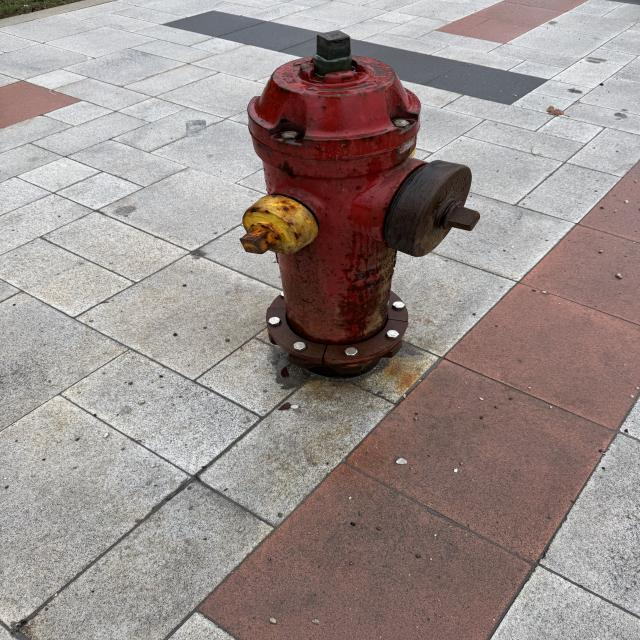Fire hydrant: (238, 30, 483, 379)
